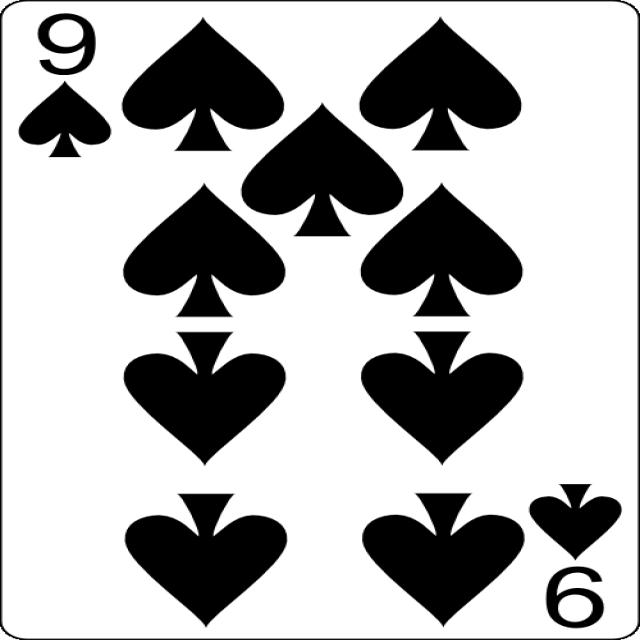Spade: (360, 329, 525, 466), (121, 182, 287, 318), (361, 491, 525, 628), (239, 101, 403, 237), (357, 17, 522, 152), (359, 182, 524, 317), (122, 332, 288, 466), (122, 16, 285, 151), (125, 492, 287, 627), (18, 80, 112, 158), (528, 482, 622, 560)
